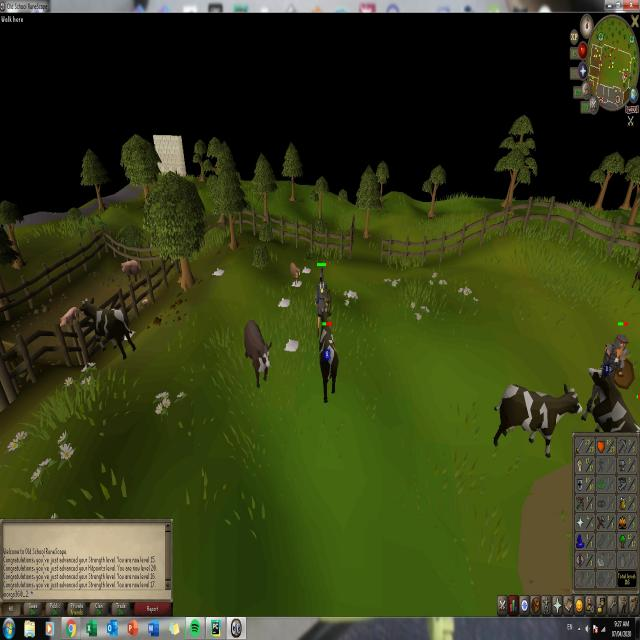cow: (492, 376, 572, 456), (79, 294, 137, 360), (584, 366, 638, 430), (242, 318, 273, 391), (314, 310, 337, 404), (289, 262, 302, 286)
player: (314, 270, 330, 308)
